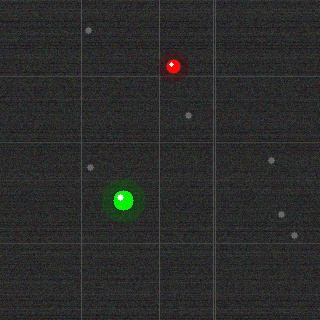green_normal: (111, 188, 135, 212)
red_fault: (164, 57, 182, 75)
